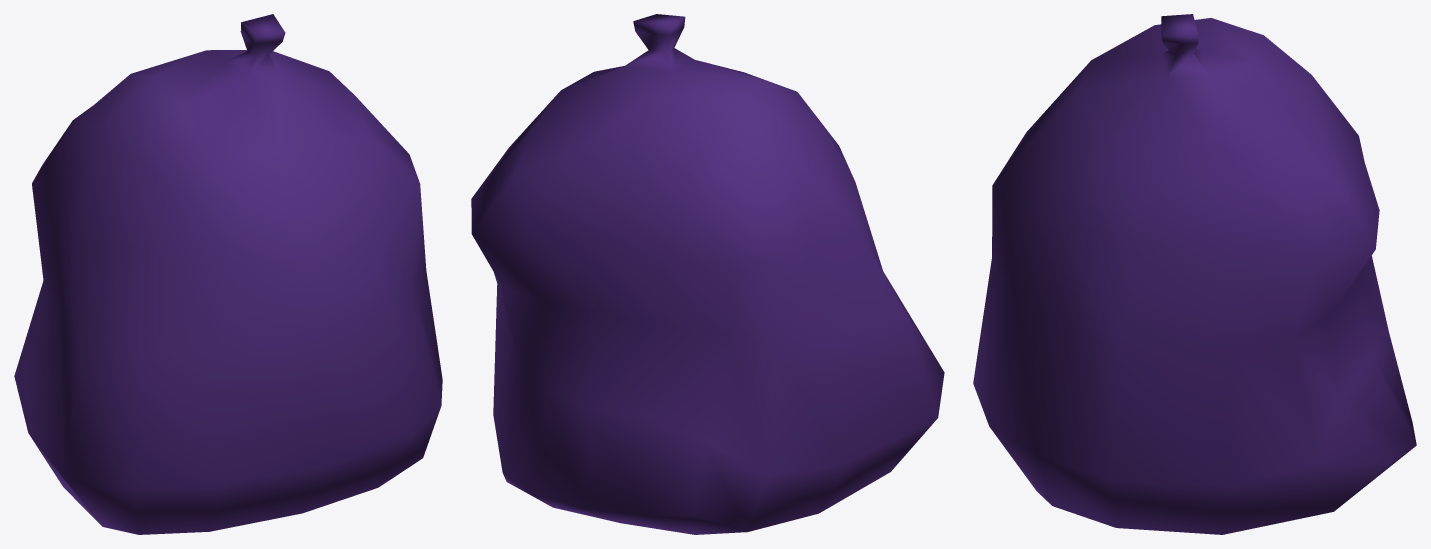
File: garbageBag.fbx
3 views of the same model, side by side, from view 1: azimuth 30°, elevation 25°; view 2: azimuth 150°, elevation 25°; view 3: azimuth 270°, elevation 25° (orthographic). The views are drawn at different scales.
Visible parts, largest first — view 1: garbageBag; view 2: garbageBag; view 3: garbageBag.
Part boxes in pixels (bbox=[...]): garbageBag: bbox=[14, 14, 442, 534]; garbageBag: bbox=[471, 14, 944, 534]; garbageBag: bbox=[973, 14, 1416, 534].
Size of the model in its own units: 221 by 247 by 212.
1 material, 1 textured.
